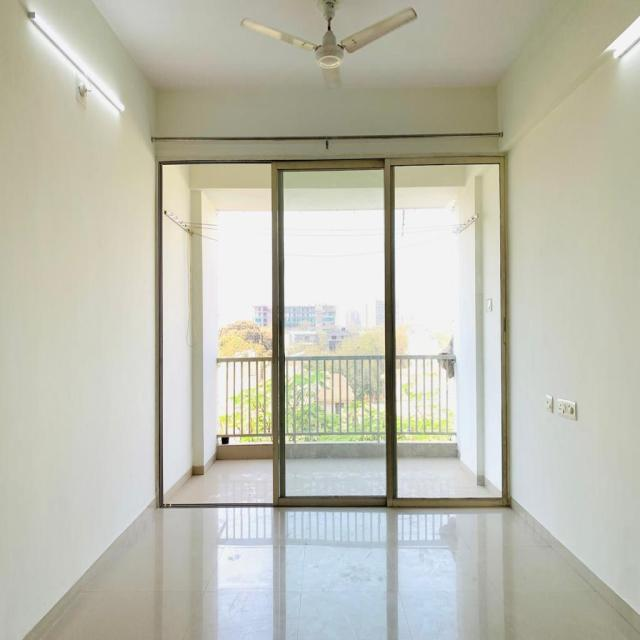floor: (24, 495, 640, 640), (165, 458, 273, 504), (397, 457, 495, 498), (286, 458, 387, 496)
wall: (497, 0, 640, 613), (190, 163, 272, 466), (156, 85, 503, 137), (162, 165, 193, 494), (156, 136, 500, 160), (482, 165, 502, 498), (458, 177, 477, 484), (201, 189, 216, 466), (475, 177, 484, 485), (283, 168, 385, 188), (395, 165, 466, 188), (465, 165, 496, 186)
